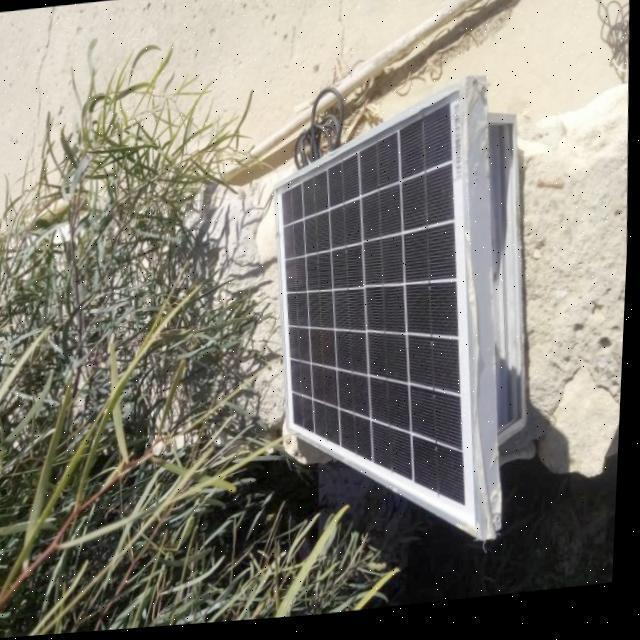Normal Solar Panel: (261, 85, 499, 562)
